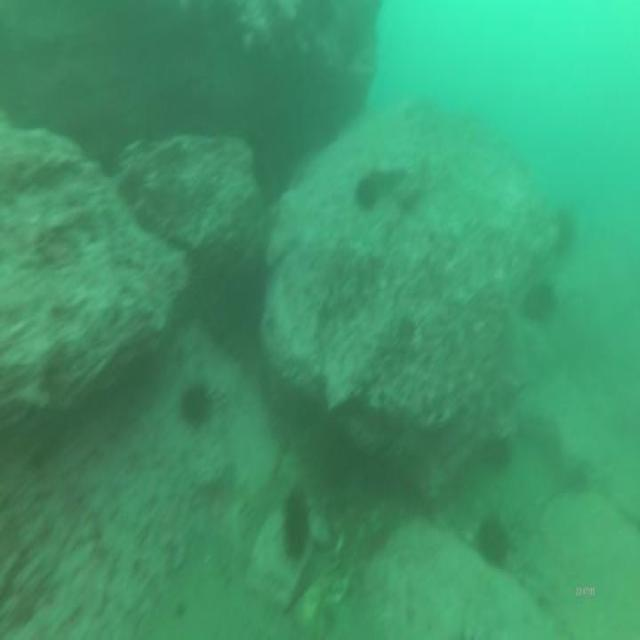echinus: (277, 485, 315, 564), (178, 374, 216, 432), (476, 513, 514, 569), (482, 425, 514, 479), (551, 202, 581, 256), (524, 272, 554, 324), (94, 131, 124, 180), (353, 170, 381, 217)
